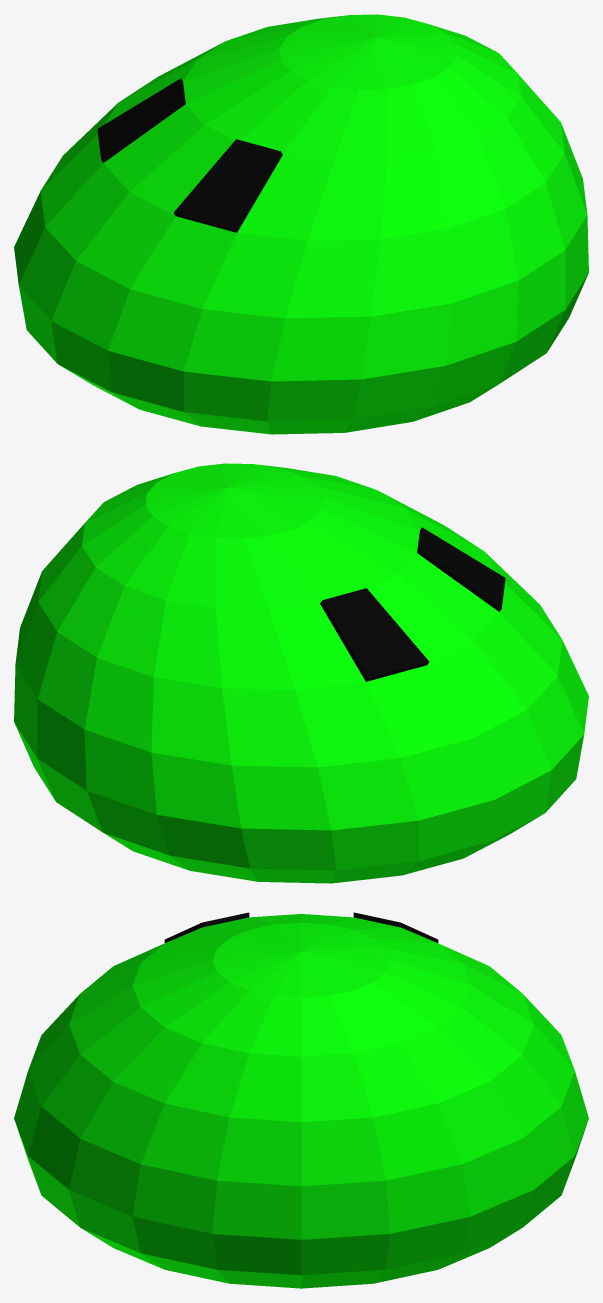
Rendered from Slime.fbx.
The picture shows the model from 3 angles, top to bottom: view 1: azimuth 30°, elevation 25°; view 2: azimuth 150°, elevation 25°; view 3: azimuth 270°, elevation 25°; orthographic projection.
Visible parts, largest first — view 1: Sphere; view 2: Sphere; view 3: Sphere.
Boxes of the visible parts, x1,y1,x2,y2 form: Sphere: (14,14,588,434); Sphere: (14,463,588,883); Sphere: (14,912,588,1288).
Size of the model in its own units: 200 by 114 by 200.
Materials: 1 (1 with a texture image).
